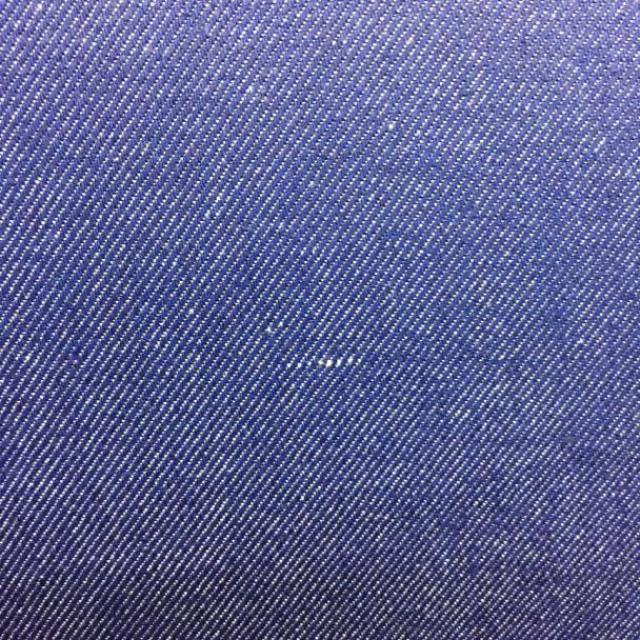Knot: (283, 355, 363, 371)
